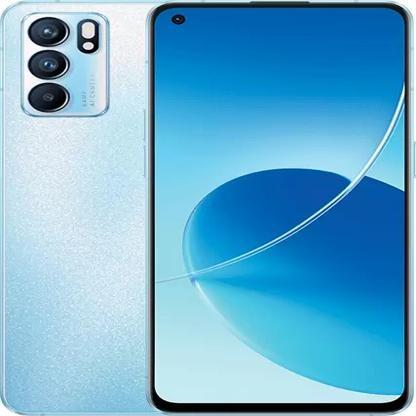not trash: (0, 0, 413, 416), (141, 0, 416, 416)
